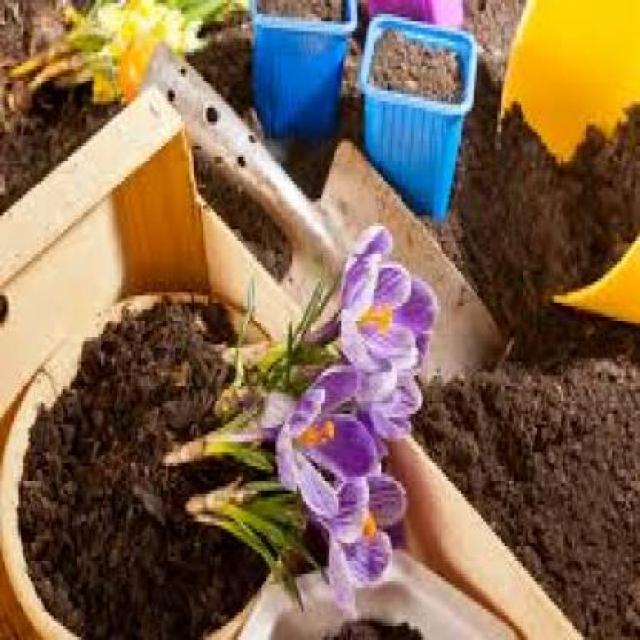saffron open: (276, 365, 379, 519), (340, 225, 438, 372), (330, 472, 406, 584)
